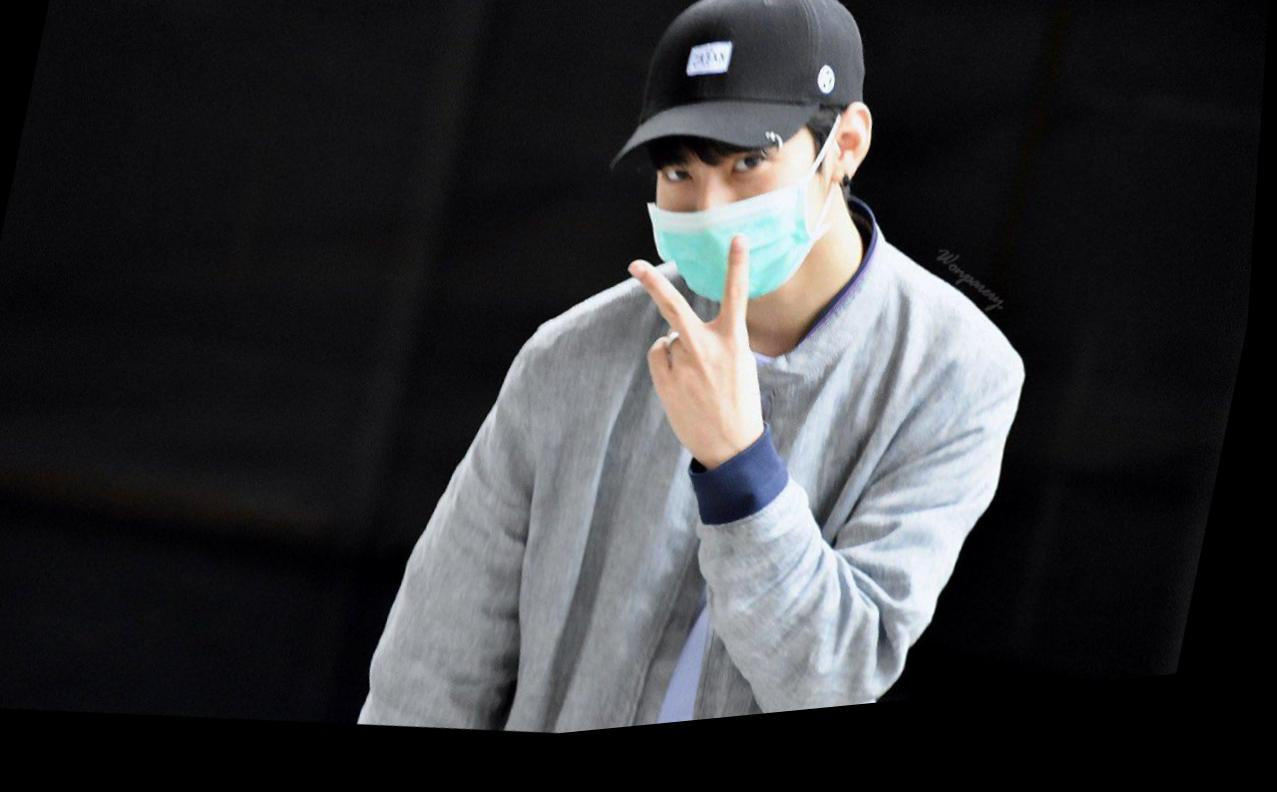WRONG: (633, 118, 849, 339)
